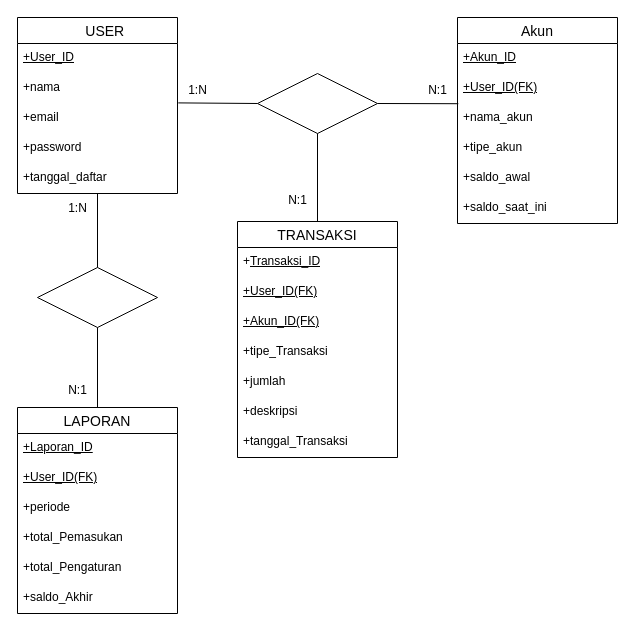
Image size: 635x634. Some labels were removed from this diagram. The shapes that lost their labels are listed below. From the top down, each one's box as (x1, y1, x2, y2) in pixels, then its label:
(256, 72, 378, 134): User Melakukan Transaksi
(36, 266, 158, 328): Laporan Keuangan User
